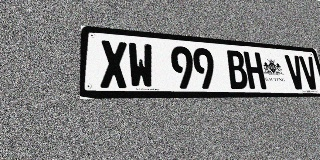9: (170, 46, 196, 89), (192, 47, 217, 89)
B: (225, 50, 249, 89)
H: (243, 51, 267, 89)
V: (284, 55, 306, 89), (299, 56, 320, 90)
W: (127, 42, 155, 88)
X: (100, 40, 128, 88)
